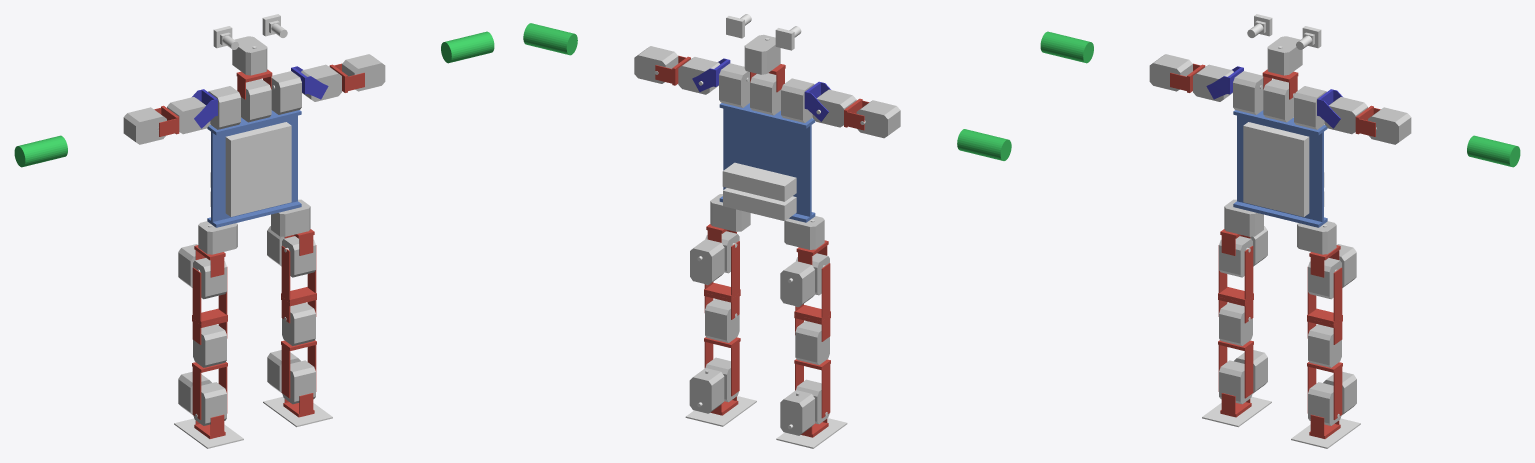
Rendered from full_robot_mx28(v5).dae.
3 renders of one model, left to right at view 1: azimuth 30°, elevation 25°; view 2: azimuth 150°, elevation 25°; view 3: azimuth 330°, elevation 25°, orthographic.
Visible parts, largest first — view 1: electronics, Central, left_arm_servo1, right_arm_servo3, right_leg_servo4, left_leg_servo4, left_hand, right_hand, head_servo2, head_servo1, right_leg_servo1, left_leg_servo1 (+21 smaller); view 2: Central, battery1, battery2, left_leg_servo5, right_leg_servo3, left_leg_servo3, right_leg_servo5, right_leg_servo4, right_arm_servo3, left_leg_servo4, left_hand, right_hand (+20 smaller); view 3: electronics, Central, right_arm_servo1, left_arm_servo3, left_leg_servo4, right_leg_servo4, left_hand, right_hand, head_servo2, head_servo1, left_leg_servo1, right_leg_servo1 (+19 smaller).
Boxes of the visible parts, x1,y1,x2,y2 form: electronics: (225, 122, 291, 216); Central: (207, 110, 301, 227); left_arm_servo1: (271, 71, 301, 114); right_arm_servo3: (123, 107, 166, 144); right_leg_servo4: (193, 324, 226, 367); left_leg_servo4: (282, 302, 315, 345); left_hand: (441, 31, 494, 63); right_hand: (14, 135, 67, 167); head_servo2: (232, 36, 267, 75); head_servo1: (241, 79, 271, 122); right_leg_servo1: (198, 221, 237, 254); left_leg_servo1: (271, 199, 310, 236); Central: (719, 103, 815, 222); battery1: (722, 162, 796, 201); battery2: (723, 188, 796, 221); left_leg_servo5: (689, 368, 724, 413); right_leg_servo3: (780, 261, 814, 306); left_leg_servo3: (690, 239, 724, 284); right_leg_servo5: (780, 390, 814, 435); right_leg_servo4: (795, 321, 829, 364); right_arm_servo3: (856, 100, 900, 138); left_leg_servo4: (705, 298, 739, 342); left_hand: (523, 23, 577, 55); right_hand: (957, 129, 1011, 160); electronics: (1243, 122, 1309, 216); Central: (1233, 110, 1327, 227); right_arm_servo1: (1233, 71, 1263, 114); left_arm_servo3: (1368, 107, 1411, 144); left_leg_servo4: (1308, 324, 1341, 367); right_leg_servo4: (1219, 302, 1252, 345); left_hand: (1467, 135, 1520, 167); right_hand: (1040, 31, 1093, 63); head_servo2: (1267, 36, 1302, 75); head_servo1: (1263, 79, 1293, 122); left_leg_servo1: (1297, 221, 1336, 254); right_leg_servo1: (1224, 199, 1263, 236).
Bounding box in the file's own units: 7.7 × 1.1 × 6.18.
